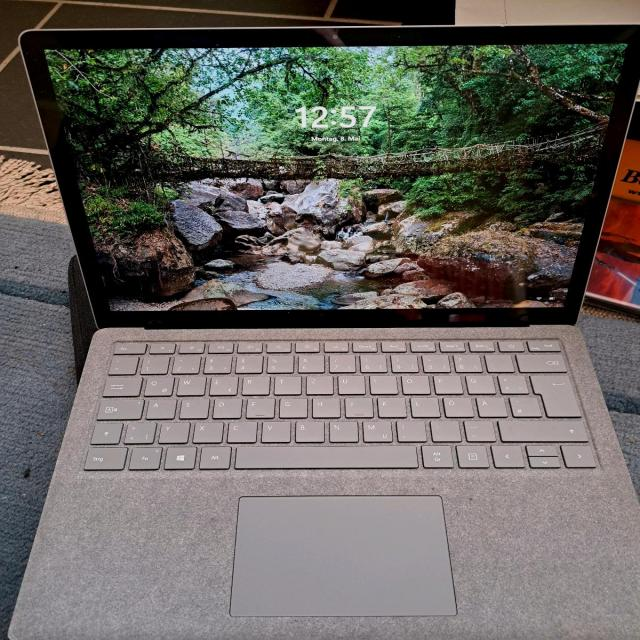0: (419, 352, 448, 371)
1: (138, 353, 168, 373)
2: (170, 353, 199, 372)
3: (201, 352, 229, 372)
4: (233, 353, 260, 372)
5: (264, 353, 292, 372)
6: (297, 355, 324, 374)
7: (327, 352, 354, 371)
8: (357, 352, 385, 371)
9: (388, 352, 416, 371)
a: (143, 396, 174, 418)
accent: (484, 354, 514, 373)
ae: (474, 394, 506, 416)
alt-left: (197, 444, 230, 468)
altgr-right: (419, 443, 452, 467)
b: (292, 419, 323, 442)
c: (224, 419, 255, 442)
caret: (106, 354, 136, 373)
comma: (394, 418, 425, 441)
d: (210, 396, 240, 418)
del: (515, 351, 566, 371)
e: (206, 374, 236, 395)
enter: (528, 371, 580, 416)
f: (244, 396, 273, 417)
g: (277, 396, 306, 417)
h: (309, 396, 338, 417)
hash: (507, 394, 540, 416)
i: (367, 373, 396, 393)
j: (343, 395, 374, 417)
k: (375, 396, 405, 417)
keyboard: (77, 332, 600, 476)
l: (408, 395, 438, 416)
less: (121, 420, 154, 443)
m: (359, 418, 390, 441)
minus: (461, 418, 494, 440)
n: (326, 419, 356, 441)
o: (399, 373, 429, 393)
oe: (441, 395, 472, 416)
p: (431, 373, 461, 393)
plus: (495, 372, 527, 393)
point: (428, 418, 460, 440)
q: (141, 374, 172, 395)
r: (239, 374, 268, 394)
s: (177, 396, 207, 418)
shift-left: (88, 420, 120, 443)
shift-lock: (94, 396, 142, 419)
shift-right: (497, 417, 586, 440)
space: (233, 444, 417, 469)
ss: (451, 352, 480, 371)
strg-left: (79, 445, 125, 469)
t: (272, 373, 299, 394)
tab: (100, 374, 139, 395)
u: (335, 373, 364, 394)
ue: (463, 372, 493, 393)
v: (259, 419, 289, 442)
w: (173, 373, 204, 395)
x: (190, 420, 221, 442)
y: (156, 420, 187, 442)
z: (303, 373, 331, 394)
